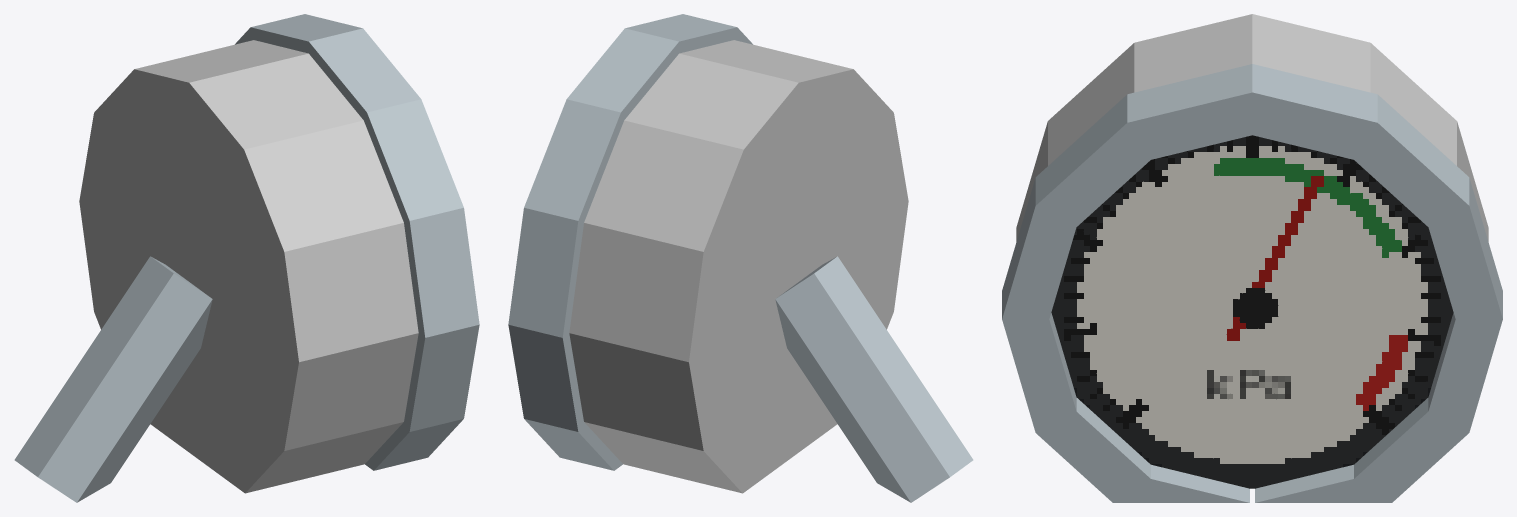
Rendered from cell_68.obj.
3 views of the same model, side by side, from view 1: azimuth 30°, elevation 25°; view 2: azimuth 150°, elevation 25°; view 3: azimuth 270°, elevation 25° (orthographic). The views are drawn at different scales.
Bounding box in the file's own units: 0.124 × 0.1342 × 0.1484.
